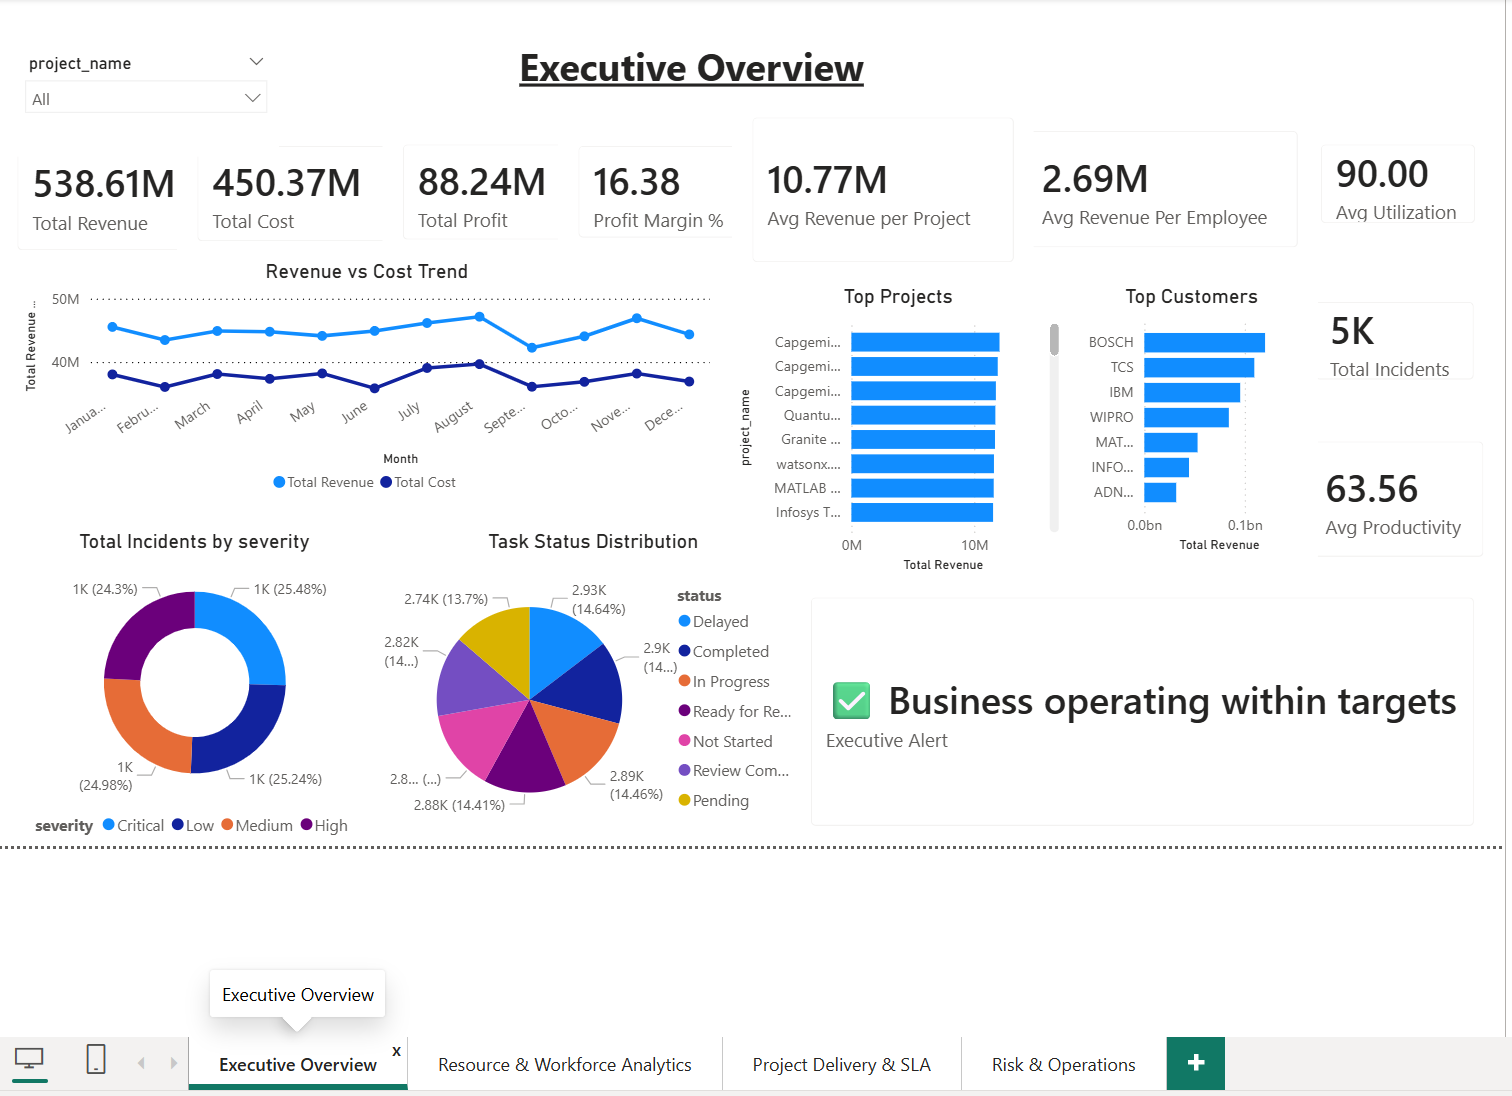

What the dashboard file says about the page in this screenshot:
{"tool":"powerbi","page":{"name":"Executive Overview","canvas":[1280,720],"ordinal":0},"visuals":[{"type":"cardVisual","fields":{"Data":["enterprise_analytics timesheets.Total Revenue"]},"box":[0,101.9,203.8,129.5],"z":0},{"type":"cardVisual","fields":{"Data":["enterprise_analytics incidents.Total Incidents"]},"box":[1101.9,241,169.4,100.5],"z":1000},{"type":"cardVisual","fields":{"Data":["enterprise_analytics timesheets.Avg Productivity"]},"box":[1097.7,359.5,181.8,132.2],"z":2000},{"type":"cardVisual","fields":{"Data":["enterprise_analytics timesheets.Total Cost"]},"box":[152.9,108.8,198.3,115.7],"z":3000},{"type":"cardVisual","fields":{"Data":["enterprise_analytics timesheets.Total Profit"]},"box":[327.8,107.4,170.8,115.7],"z":4000},{"type":"cardVisual","fields":{"Data":["enterprise_analytics timesheets.Avg Utilization"]},"box":[1106,107.4,165.3,101.9],"z":5000},{"type":"clusteredBarChart","title":"Top Projects","fields":{"Y":["enterprise_analytics timesheets.Total Revenue"],"Category":["enterprise_analytics project.project_name"]},"box":[623.9,243.8,282.4,247.9],"z":6000},{"type":"donutChart","fields":{"Y":["enterprise_analytics incidents.Total Incidents"],"Category":["enterprise_analytics incidents.severity"]},"box":[13.8,450.4,307.1,270],"z":7000},{"type":"slicer","fields":{"Values":["enterprise_analytics project.project_name"]},"box":[13.5,42,225.3,92.5],"z":8000},{"type":"textbox","box":[438,30.3,314,57.8],"z":9000},{"type":"lineChart","title":"Revenue vs Cost Trend","fields":{"Y":["enterprise_analytics timesheets.Total Revenue","enterprise_analytics timesheets.Total Cost"],"Category":["DateTable.Date.Variation.Date Hierarchy.Month"]},"box":[17.9,221.8,592.3,208],"z":10000},{"type":"cardVisual","fields":{"Data":["enterprise_analytics timesheets.Profit Margin %"]},"box":[476.6,108.8,169.4,112.9],"z":11000},{"type":"cardVisual","fields":{"Data":["enterprise_analytics employees.Revenue Per Employee"]},"box":[856.7,95,264.4,133.6],"z":12000},{"type":"cardVisual","fields":{"Data":["enterprise_analytics project.Avg Revenue per Project"]},"box":[623.9,84,256.2,157],"z":13000},{"type":"pieChart","title":"Task Status Distribution","fields":{"Category":["enterprise_analytics task.status"],"Y":["CountNonNull(enterprise_analytics task.task_id)"]},"box":[320.9,450.4,370.5,270],"z":14000},{"type":"barChart","title":"Top Customers","fields":{"Category":["enterprise_analytics project.client_name"],"Y":["enterprise_analytics timesheets.Total Revenue"]},"box":[906.3,243.8,214.9,231.4],"z":15000},{"type":"cardVisual","fields":{"Data":["enterprise_analytics timesheets.Executive Alert"]},"box":[673.5,491.7,597.8,228.6],"z":16000}]}

Visuals, with their boxes on the page's 1280x720 design canvas (x1, y1, x2, y2). These are canvas units, not pixel positions in the 1512x1096 screenshot, which may show the page scaled, cropped or inside an application window:
cardVisual - enterprise_analytics timesheets.Total Revenue: <region>0, 102, 204, 231</region>
cardVisual - enterprise_analytics incidents.Total Incidents: <region>1102, 241, 1271, 342</region>
cardVisual - enterprise_analytics timesheets.Avg Productivity: <region>1098, 360, 1280, 492</region>
cardVisual - enterprise_analytics timesheets.Total Cost: <region>153, 109, 351, 224</region>
cardVisual - enterprise_analytics timesheets.Total Profit: <region>328, 107, 499, 223</region>
cardVisual - enterprise_analytics timesheets.Avg Utilization: <region>1106, 107, 1271, 209</region>
"Top Projects" clusteredBarChart: <region>624, 244, 906, 492</region>
donutChart - enterprise_analytics incidents.Total Incidents x enterprise_analytics incidents.severity: <region>14, 450, 321, 720</region>
slicer - enterprise_analytics project.project_name: <region>14, 42, 239, 134</region>
textbox: <region>438, 30, 752, 88</region>
"Revenue vs Cost Trend" lineChart: <region>18, 222, 610, 430</region>
cardVisual - enterprise_analytics timesheets.Profit Margin %: <region>477, 109, 646, 222</region>
cardVisual - enterprise_analytics employees.Revenue Per Employee: <region>857, 95, 1121, 229</region>
cardVisual - enterprise_analytics project.Avg Revenue per Project: <region>624, 84, 880, 241</region>
"Task Status Distribution" pieChart: <region>321, 450, 691, 720</region>
"Top Customers" barChart: <region>906, 244, 1121, 475</region>
cardVisual - enterprise_analytics timesheets.Executive Alert: <region>674, 492, 1271, 720</region>
